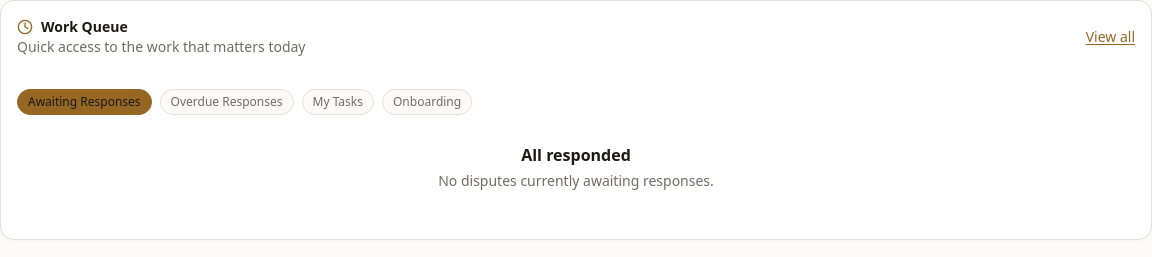
Test: WorkQueue › Tab System › should switch tabs when clicking tab buttons
Click the button "My Tasks" at x=338, y=102, box [302,89,374,115]
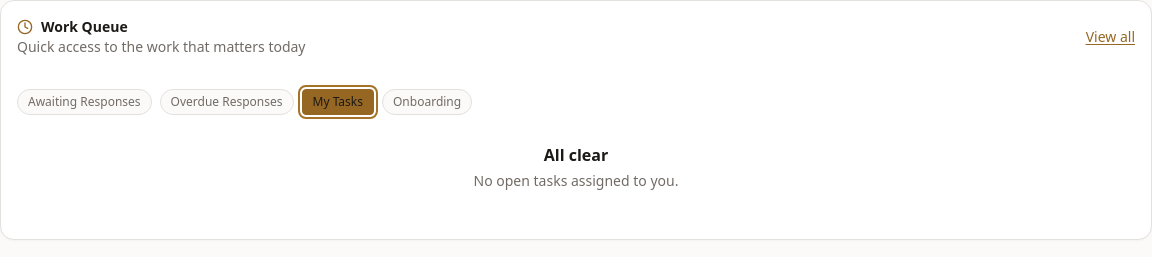
Result: the text "No open tasks assigned to you." is shown at [474,171,678,191]
